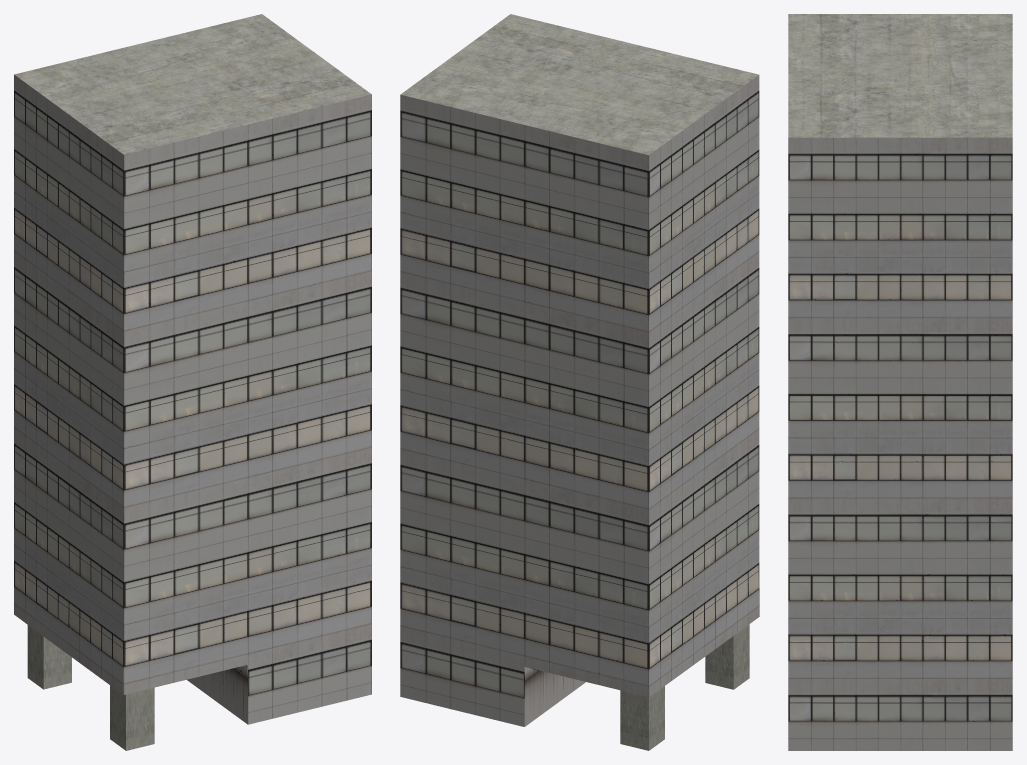
The model's file is building.FBX.
The picture shows the model from 3 angles, left to right: view 1: azimuth 30°, elevation 25°; view 2: azimuth 150°, elevation 25°; view 3: azimuth 270°, elevation 25°; orthographic projection. The views are drawn at different scales.
Visible parts, largest first — view 1: Box001, 柱１, 柱２; view 2: Box001, 柱２, 柱１; view 3: Box001.
Boxes of the visible parts, box(x1,y1,x2,y2) form: Box001: box(14, 14, 371, 724); 柱１: box(110, 685, 154, 750); 柱２: box(27, 625, 71, 689); Box001: box(400, 14, 759, 726); 柱２: box(620, 686, 664, 750); 柱１: box(705, 624, 749, 689); Box001: box(788, 14, 1012, 750).
Size of the model in its own units: 59.22 by 137 by 45.37.
